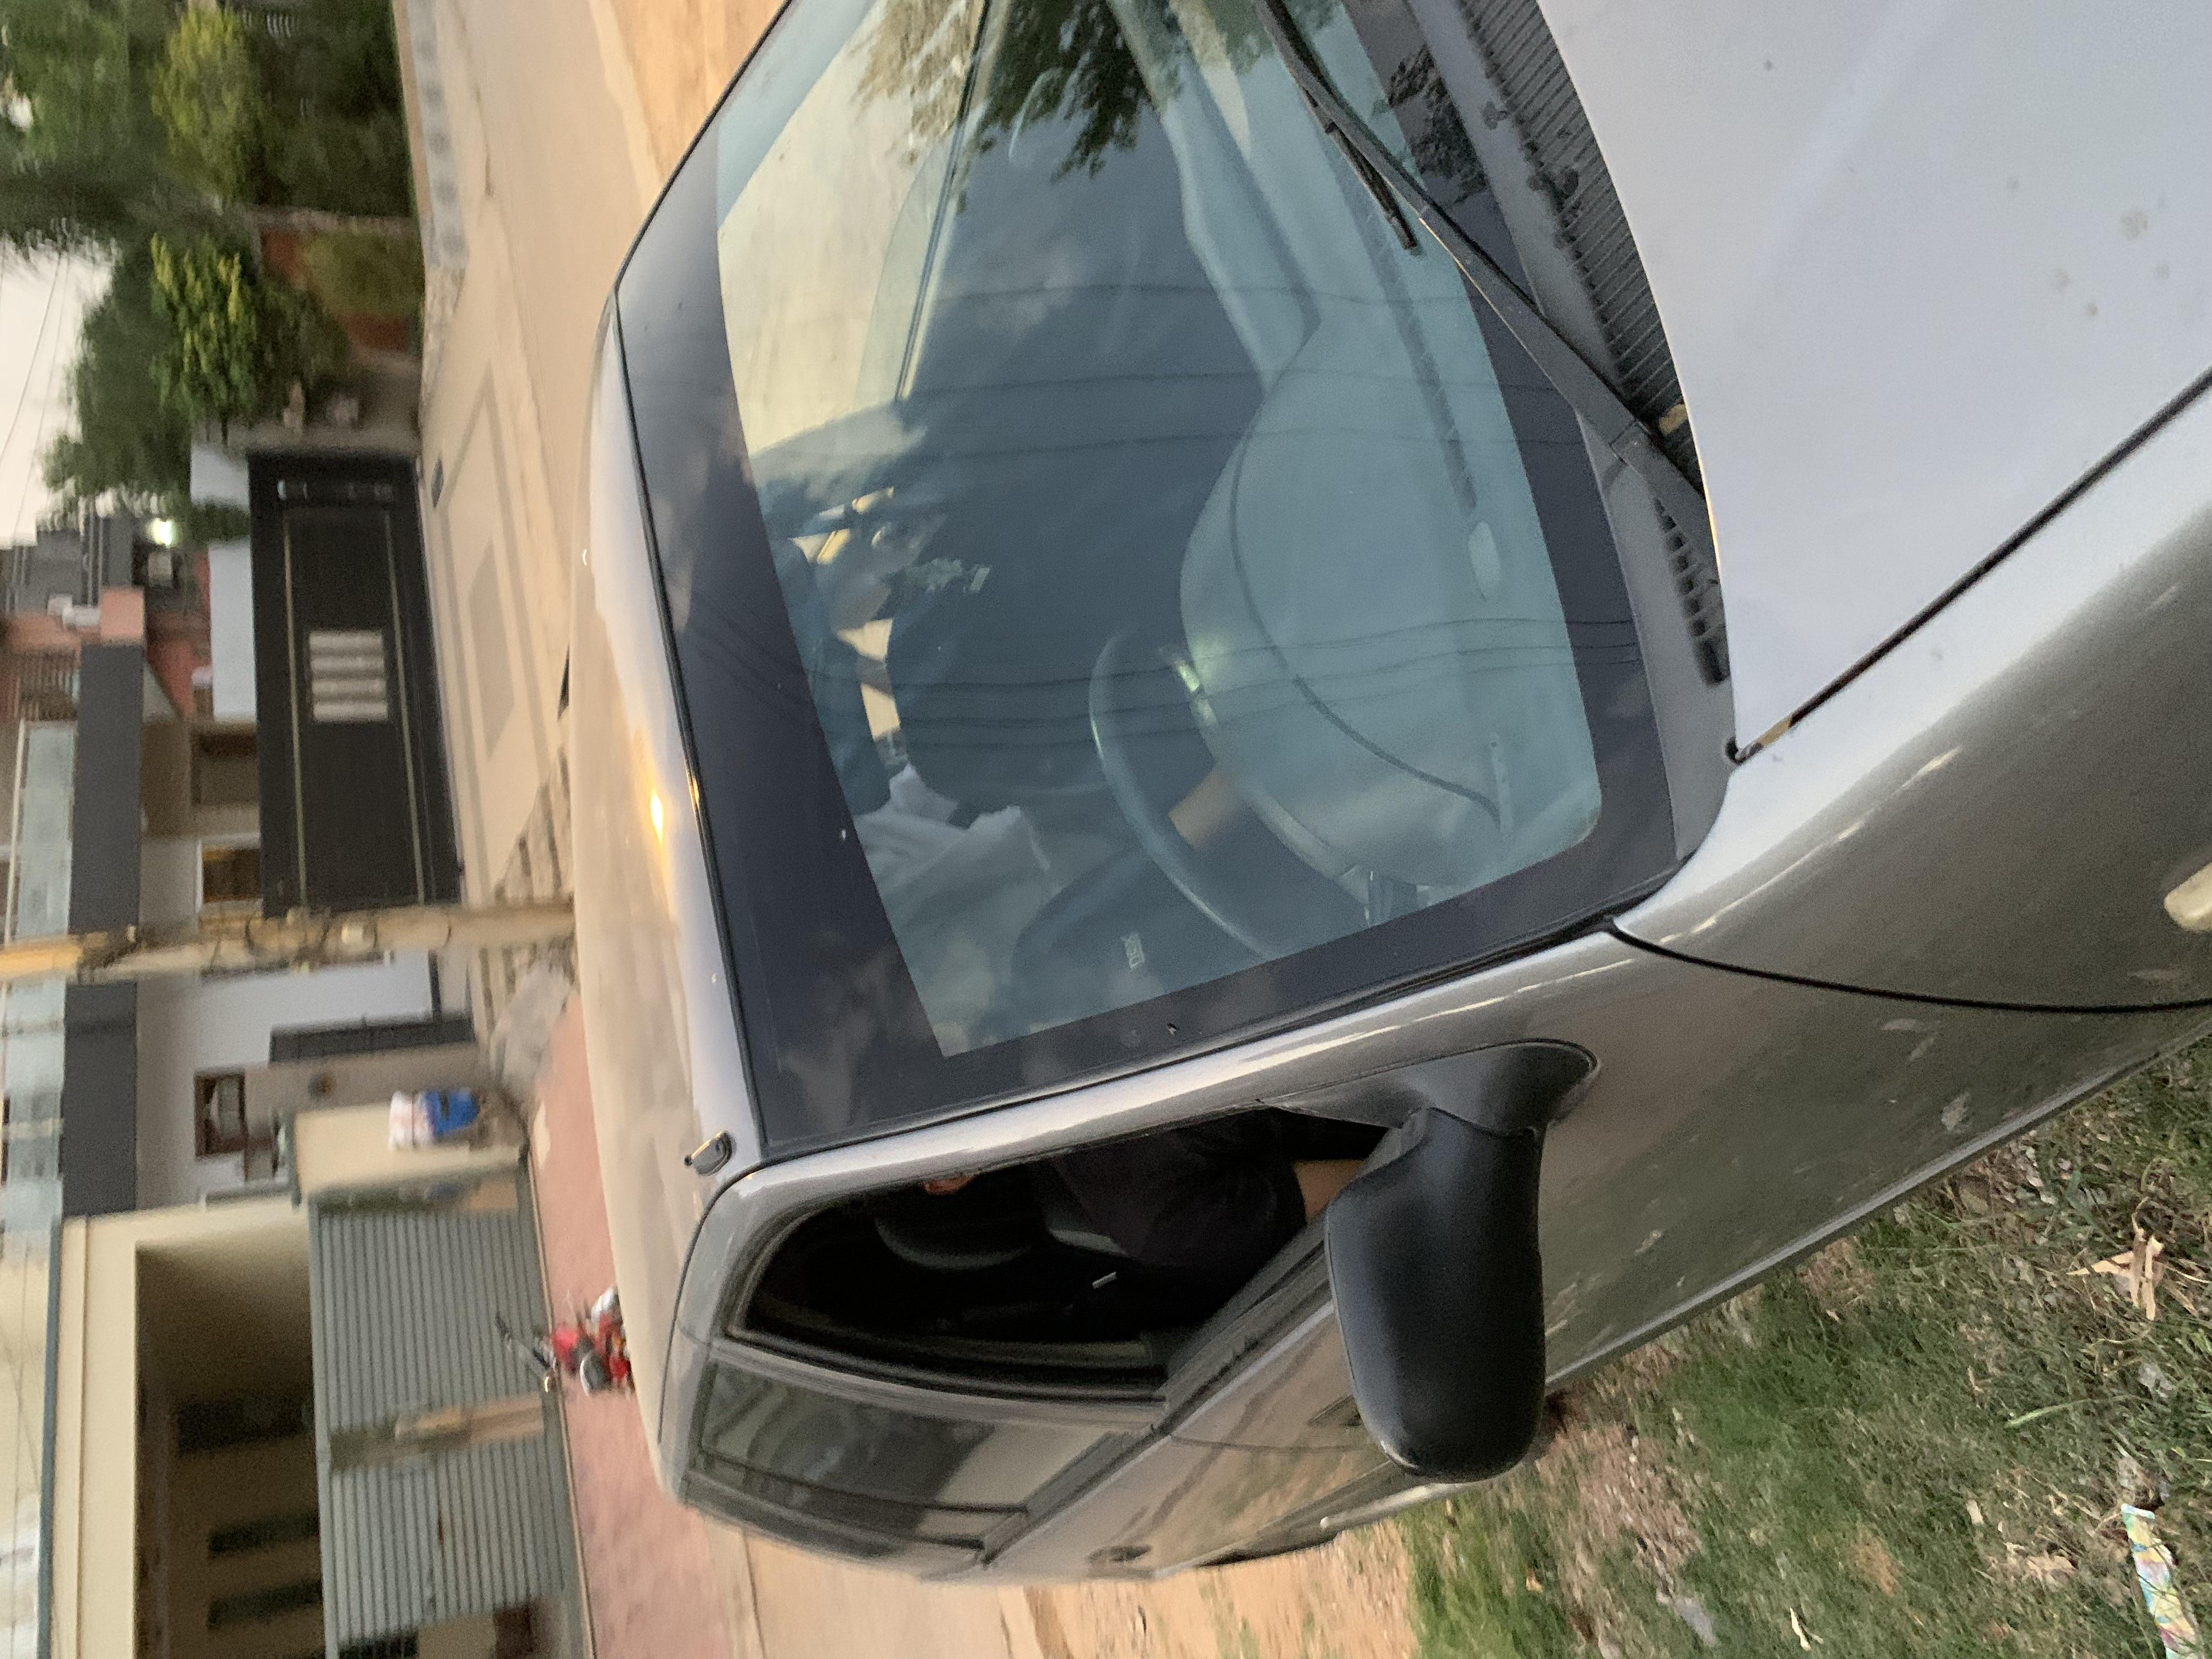windshield: (653, 444, 2212, 1309)
